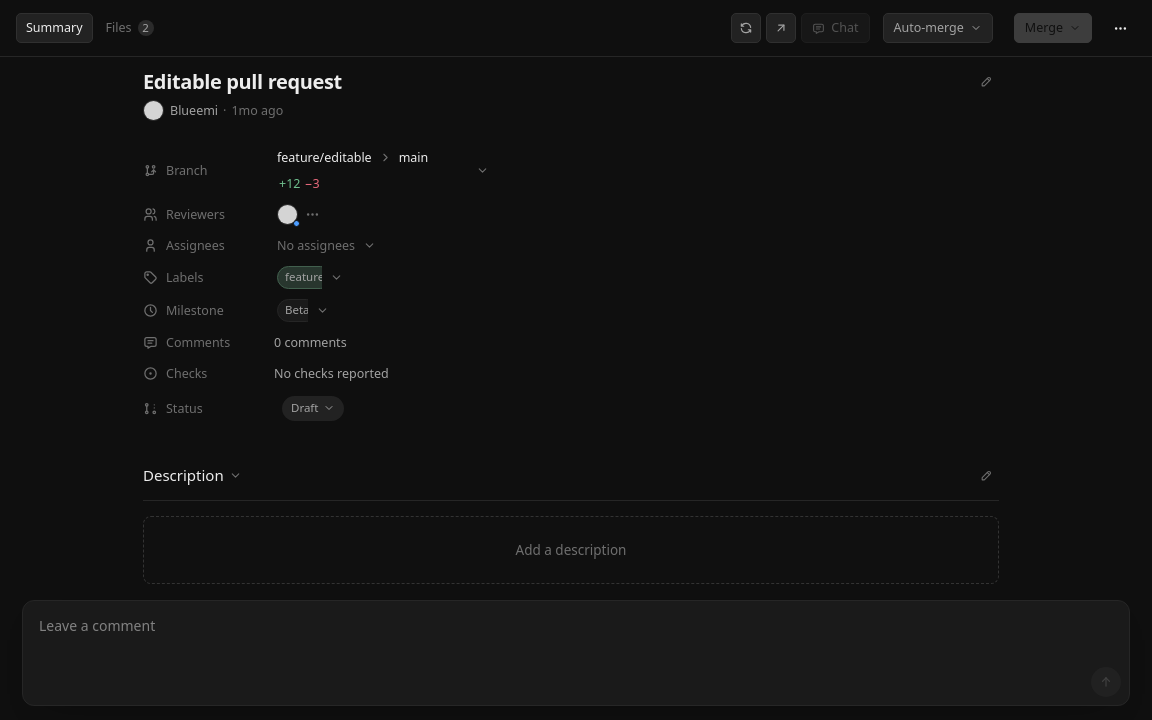
PullRequestDetailPane metadata controls › loads GitHub profile images with local initial fallbacks
Check: the heading "Editable pull request" is shown, box [143,69,342,94]
Click the button with aria-label "Manage assignees" at (327, 245), box [269,231,385,260]
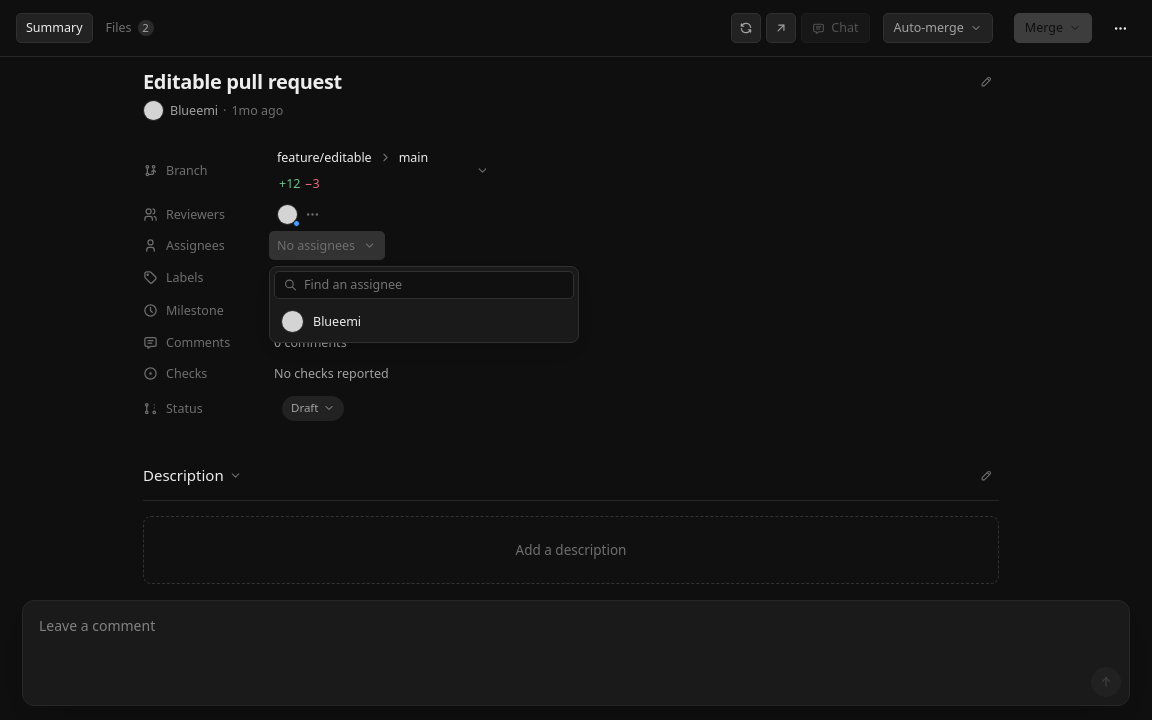
Check: the field labelled "Find an assignee" is shown, box [304,275,564,295]
